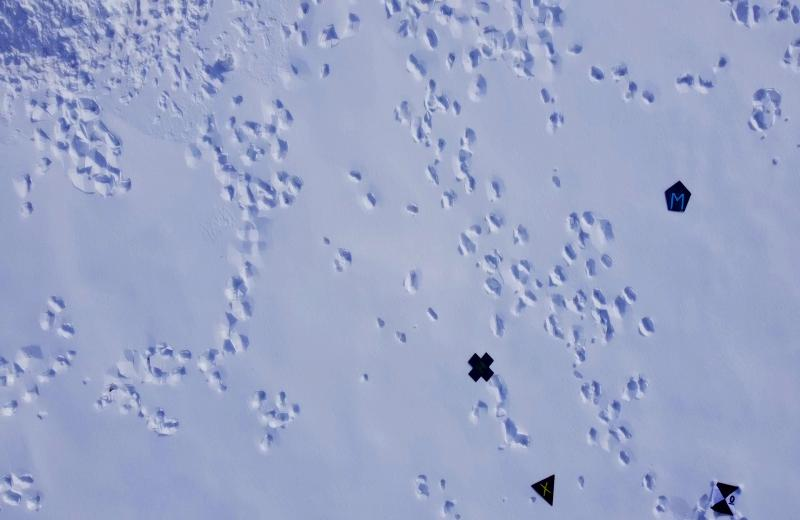Cross: (463, 347, 498, 386)
Pentagon: (662, 176, 693, 216)
Triangle: (526, 470, 559, 509)
